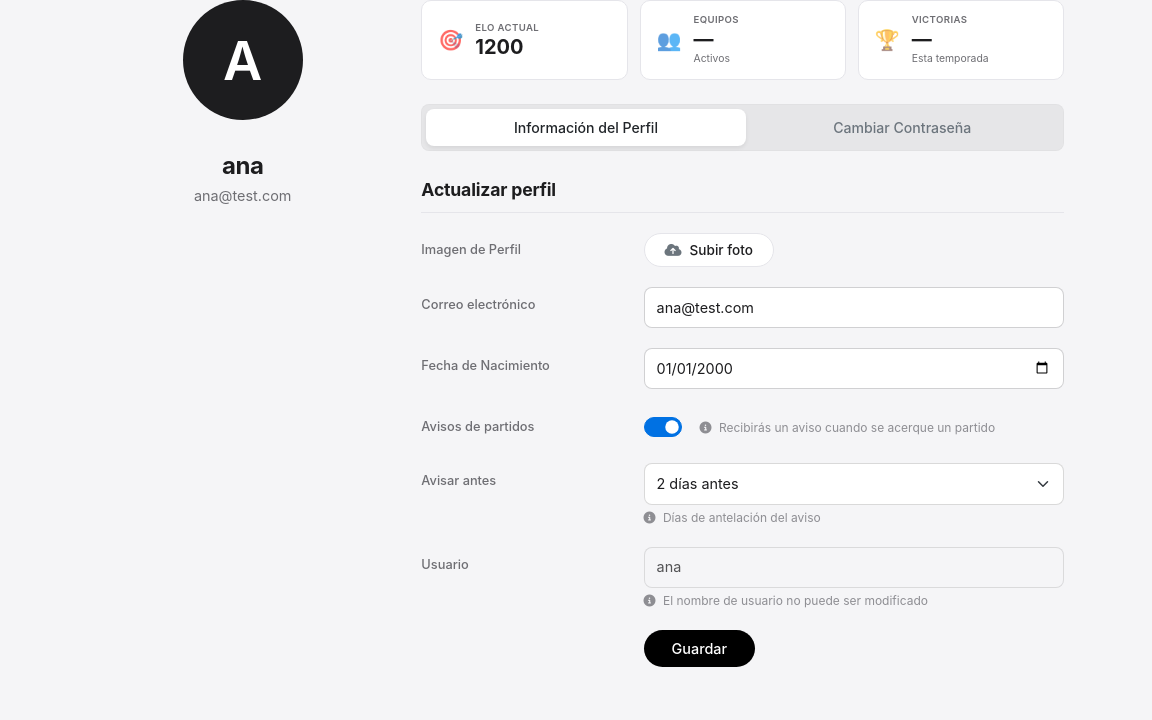
Scenario: Profile › muestra el error del backend al actualizar el perfil
Replace the text in the field with id "email" with "nuevo@test.com" at (854, 307), box [644,287,1064,328]
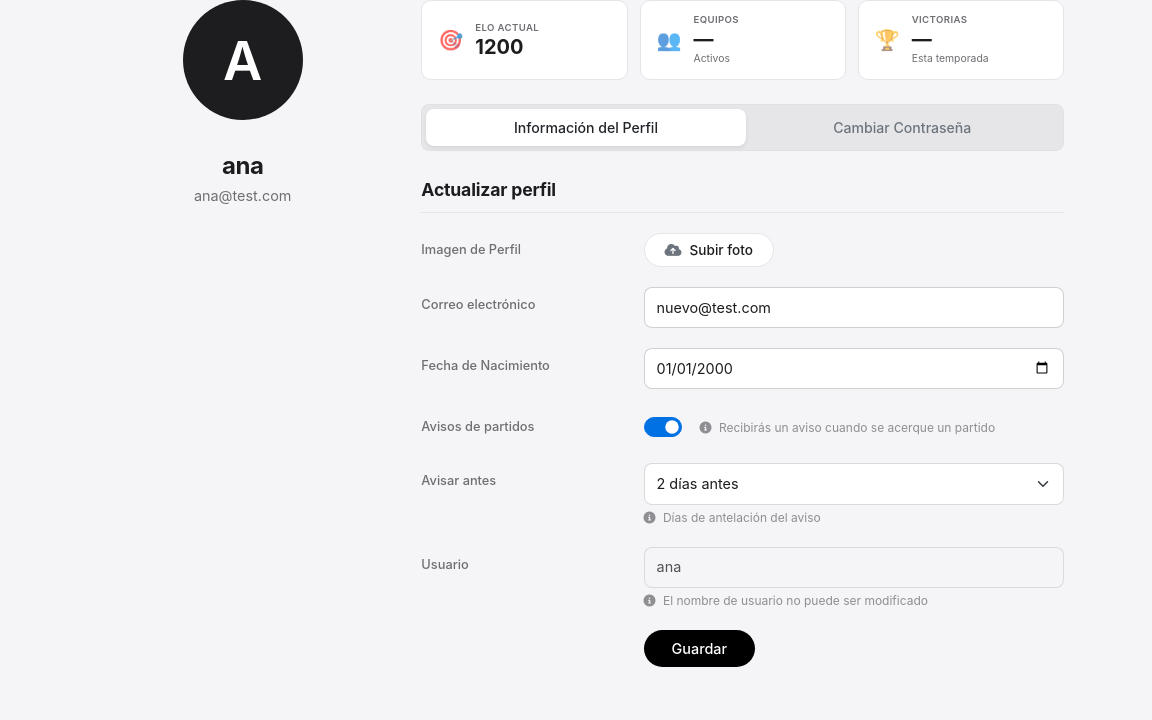
Submit the form, box [421,233,1064,667]
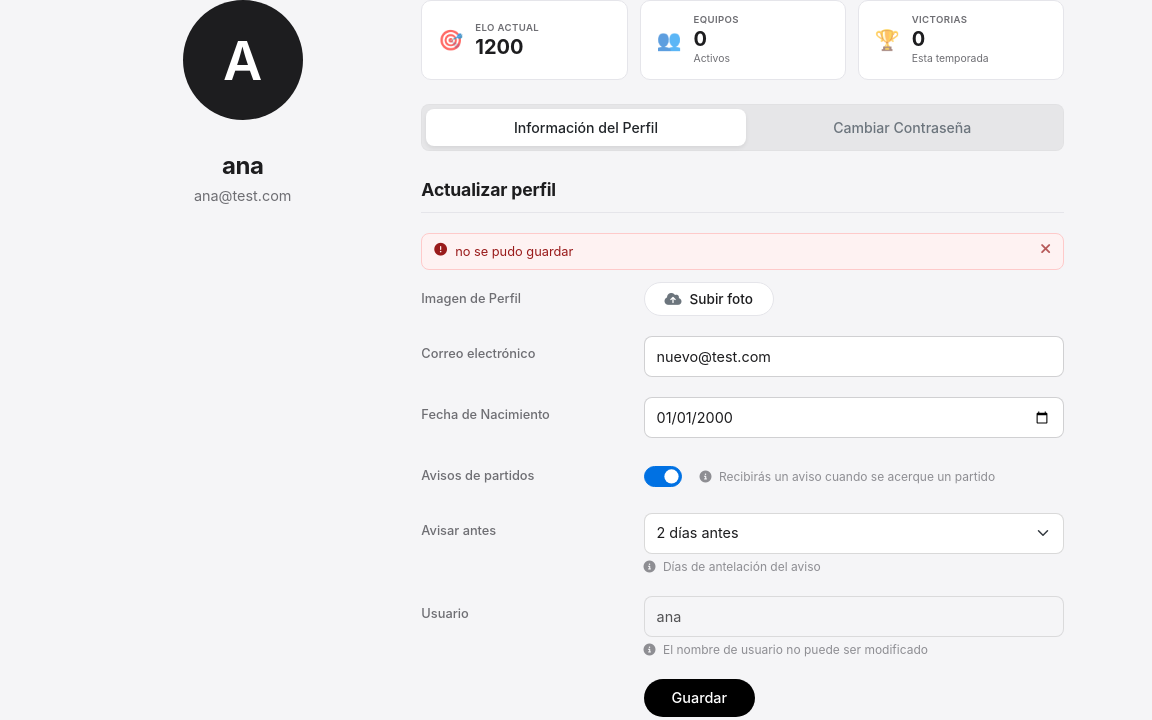
Now the text "no se pudo guardar" is shown, box [455,244,573,259]
